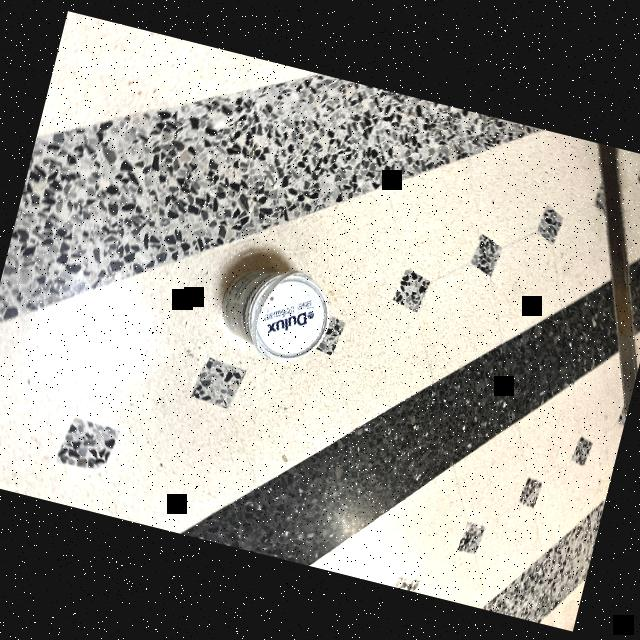paint_bucket: (205, 245, 342, 376)
